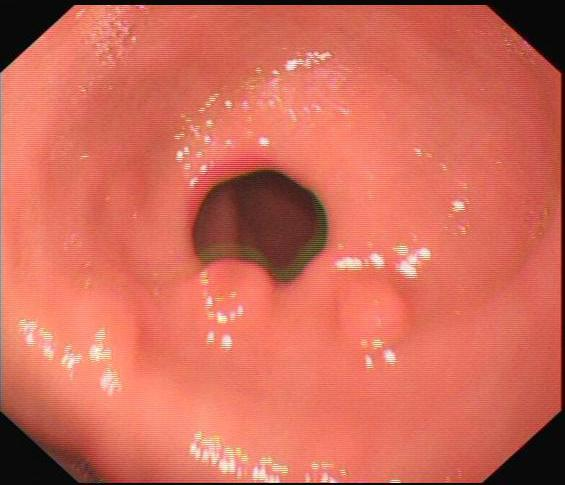Polyp: (170, 255, 286, 344), (319, 269, 421, 367)
